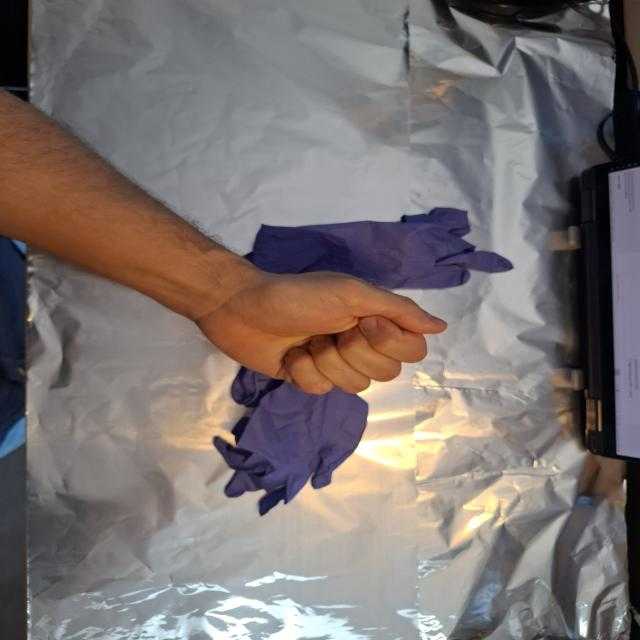glove_off: (191, 268, 444, 392)
